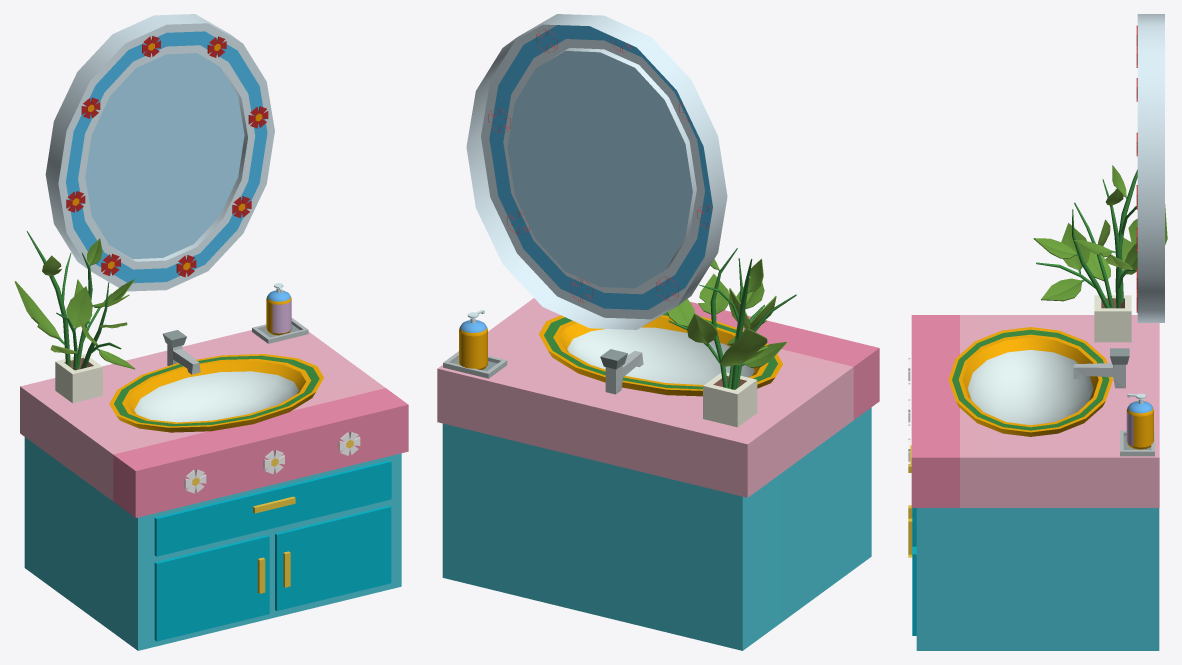
Rendered from MXC_Restroom_SinkFemale_lv4.fbx.
3 renders of one model, left to right at view 1: azimuth 30°, elevation 25°; view 2: azimuth 150°, elevation 25°; view 3: azimuth 270°, elevation 25°, orthographic. The views are drawn at different scales.
Parts seen in each view (by area): view 1: MXC_Restroom_SinkFemale_lv4; view 2: MXC_Restroom_SinkFemale_lv4; view 3: MXC_Restroom_SinkFemale_lv4.
Part boxes in pixels (bbox=[...]): MXC_Restroom_SinkFemale_lv4: bbox=[14, 14, 408, 650]; MXC_Restroom_SinkFemale_lv4: bbox=[437, 14, 879, 650]; MXC_Restroom_SinkFemale_lv4: bbox=[908, 14, 1167, 650].
Bounding box in the file's own units: 175 × 312 × 132.
